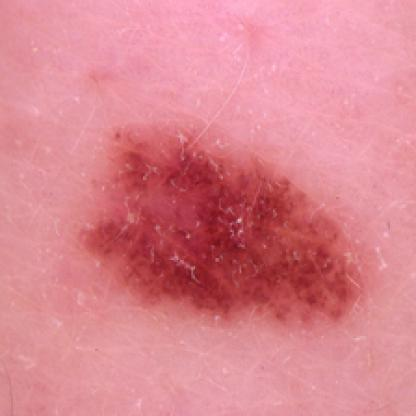benign: (95, 117, 358, 323)
